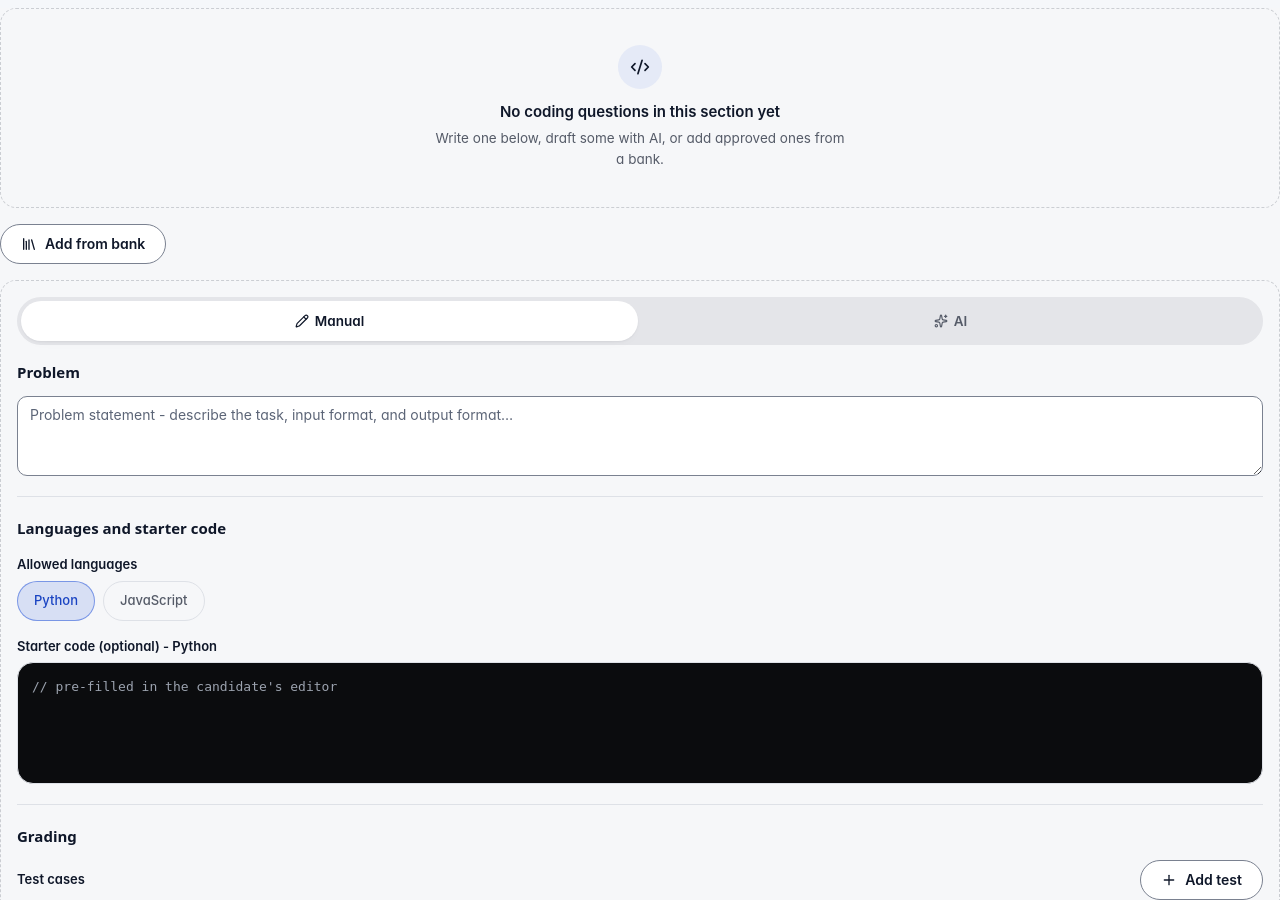
Scenario: coding section composer › keeps only the unsaved drafts when an add fails part-way (E7, C1)
Click the tab "AI" at (950, 321), box [642,301,1259,341]
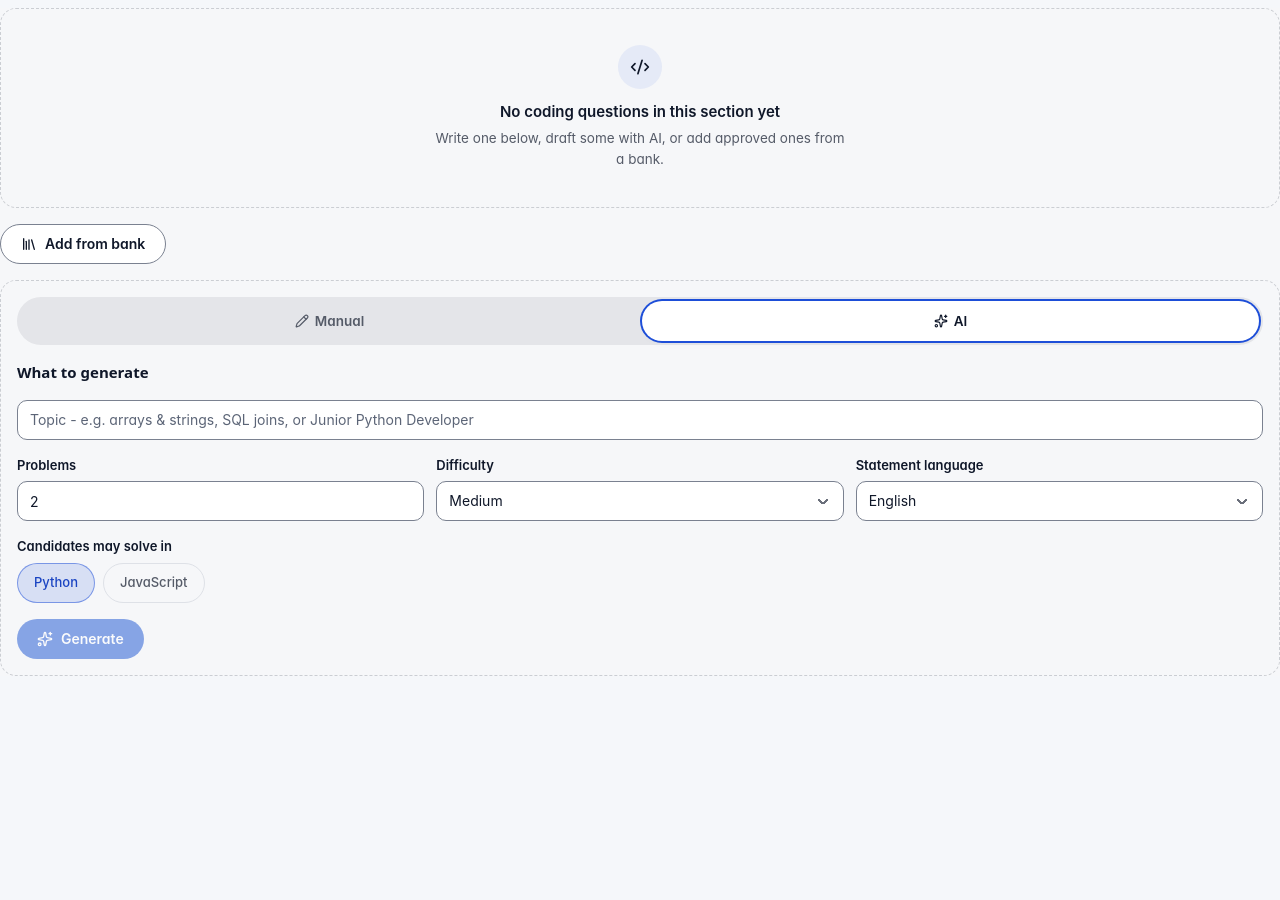
Type "strings" into the field labelled "Topic" at (640, 420), box [17,400,1263,440]
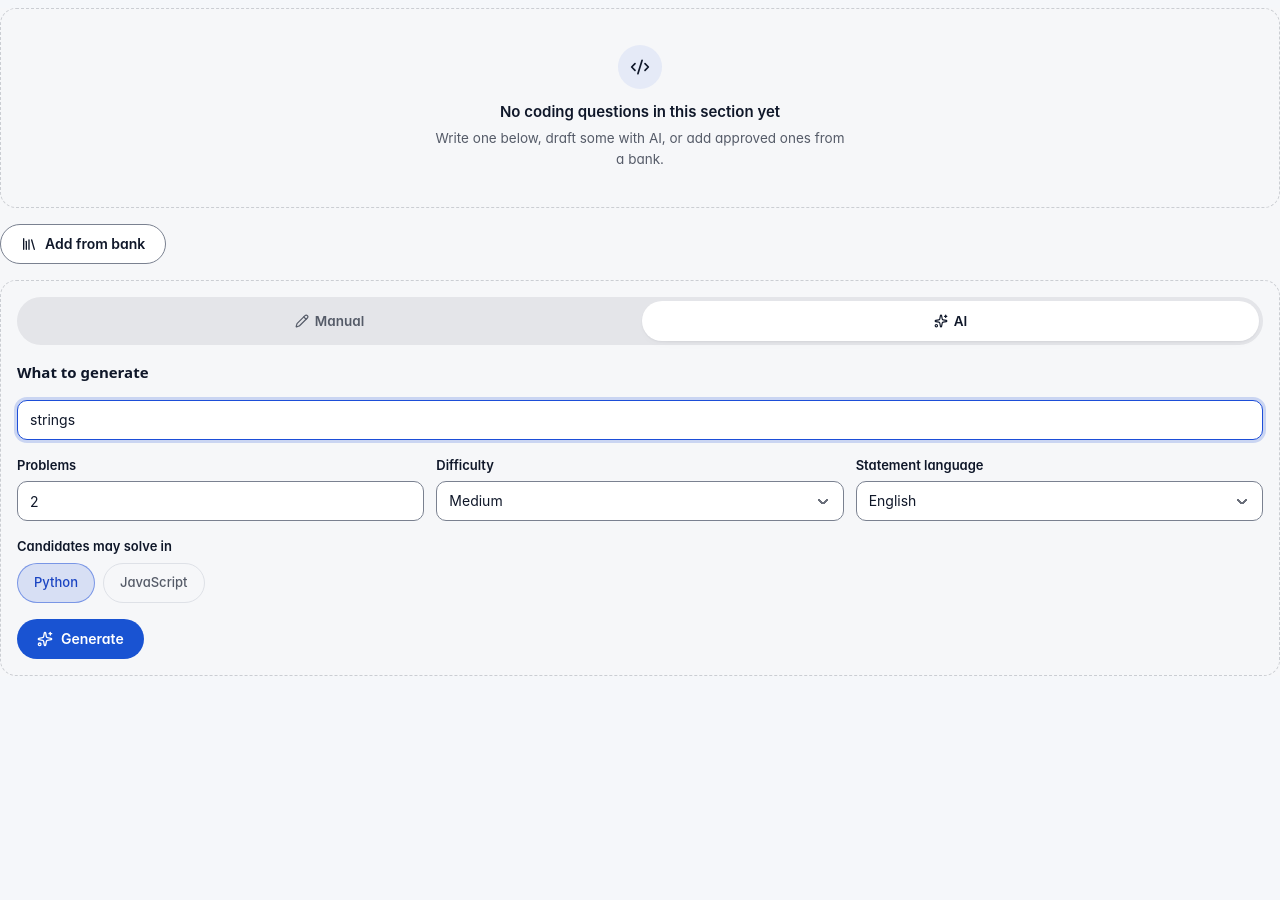
Click the button "Generate" at (80, 639), box [17,619,144,659]
(page scrolled)
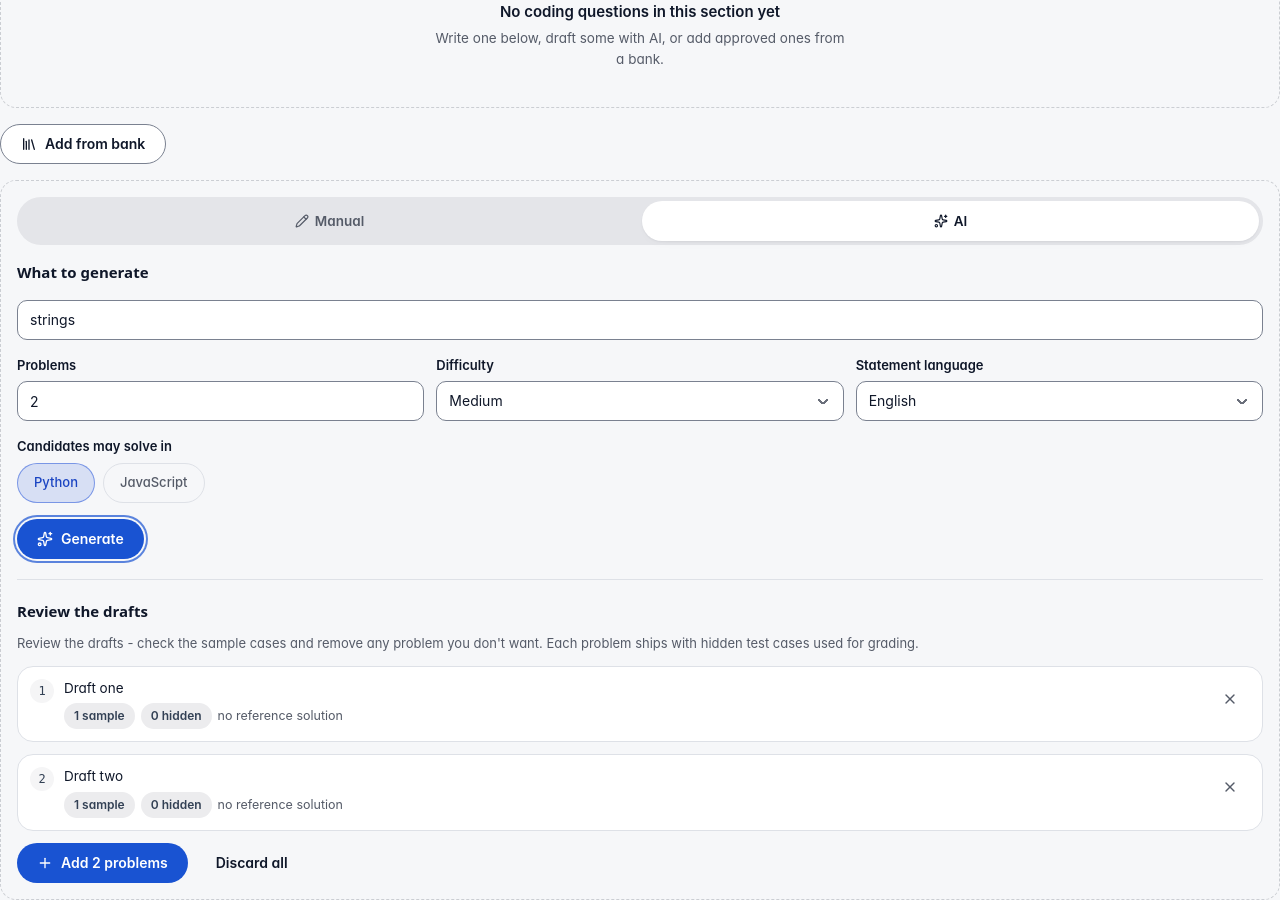
Click the button "Add 2 problems" at (102, 863), box [17,843,188,883]
(page scrolled)
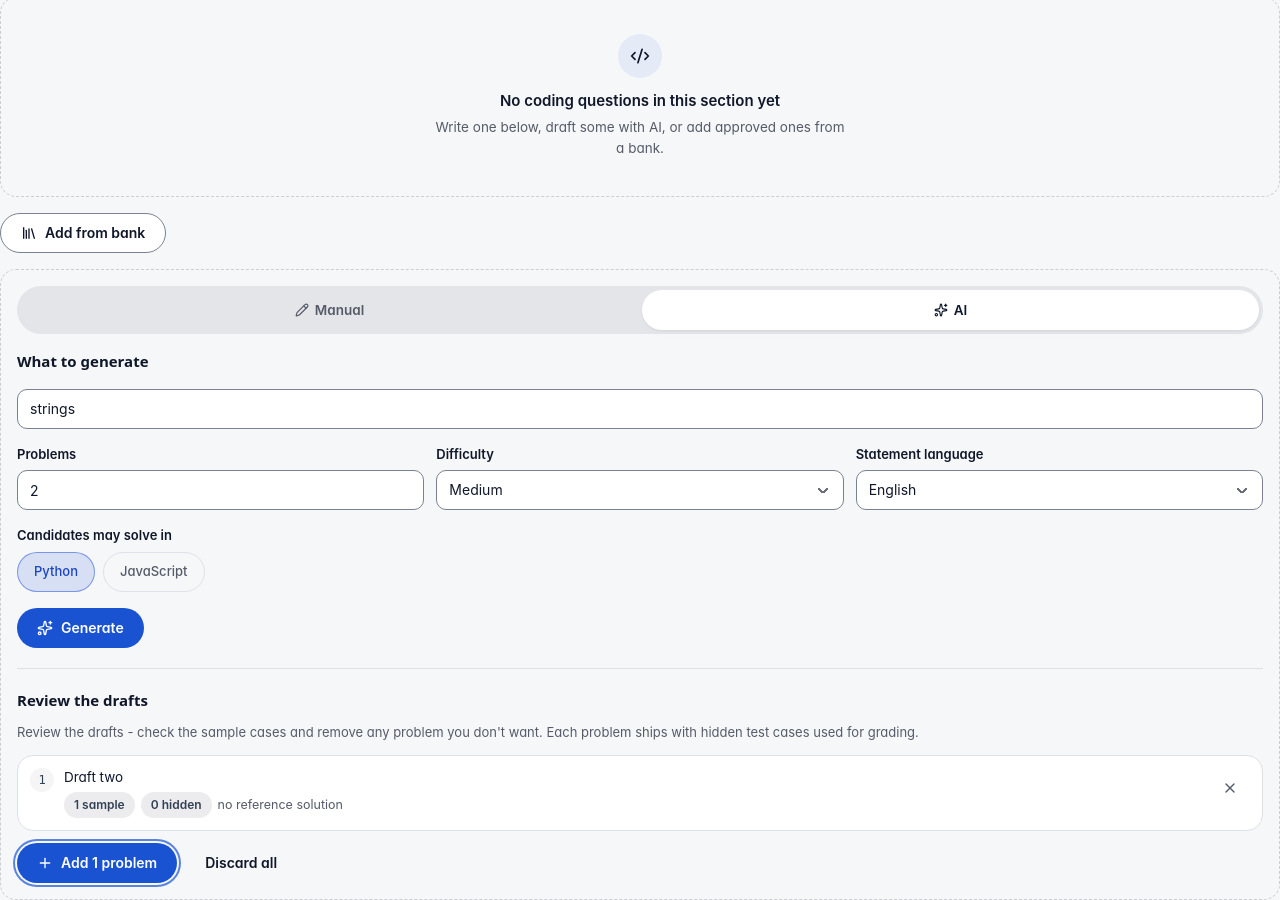
Check: the button "Add 1 problem" is shown, box [17,843,177,883]
Check: the text "Draft one" is gone
Check: the text "Draft two" is shown, box [64,769,123,785]
